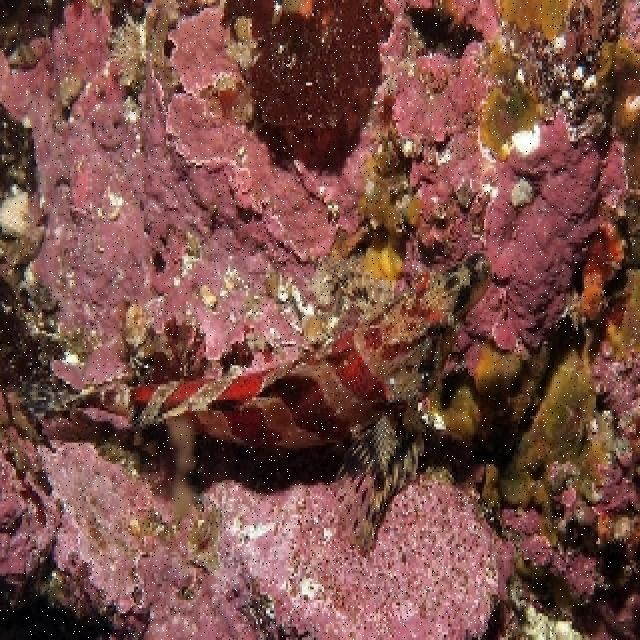fish: (0, 250, 495, 554)
reefs: (0, 0, 638, 385), (0, 270, 638, 637)
